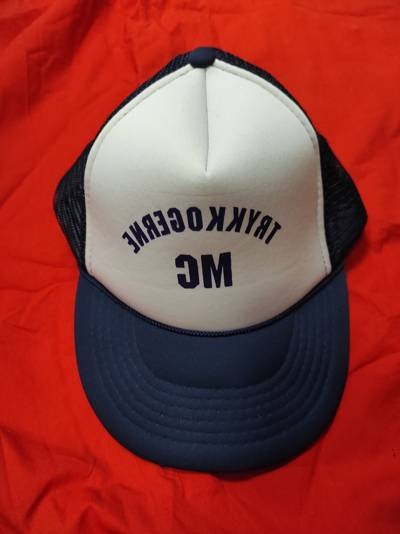Hat: (41, 27, 384, 470)
